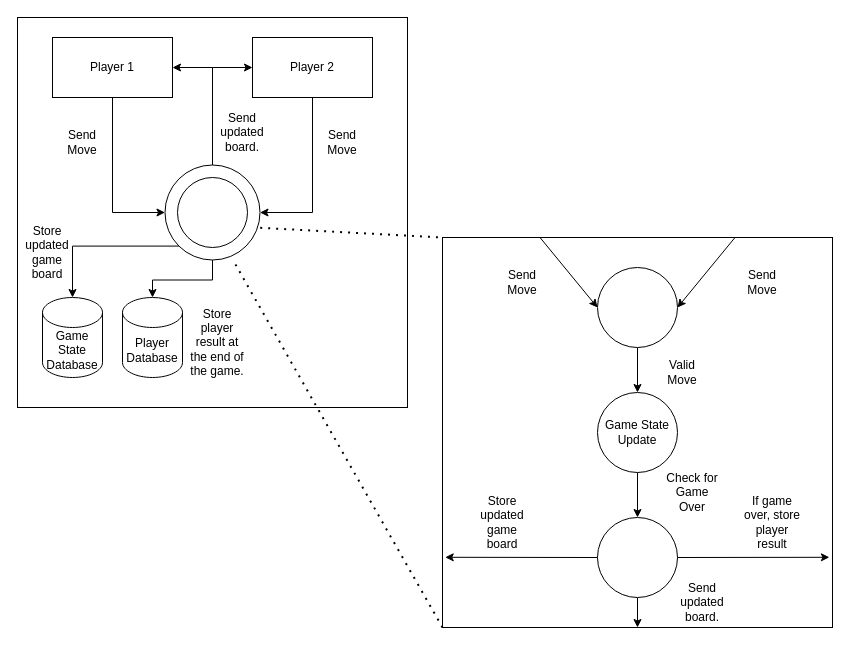
This 855x653 diagram has some shape labels left out. Here are the shapes that lost their labels. From the top down, the centre of each, then its label:
point (212, 212): Game Server
point (637, 307): Move Validation
point (637, 557): Game Over Check
